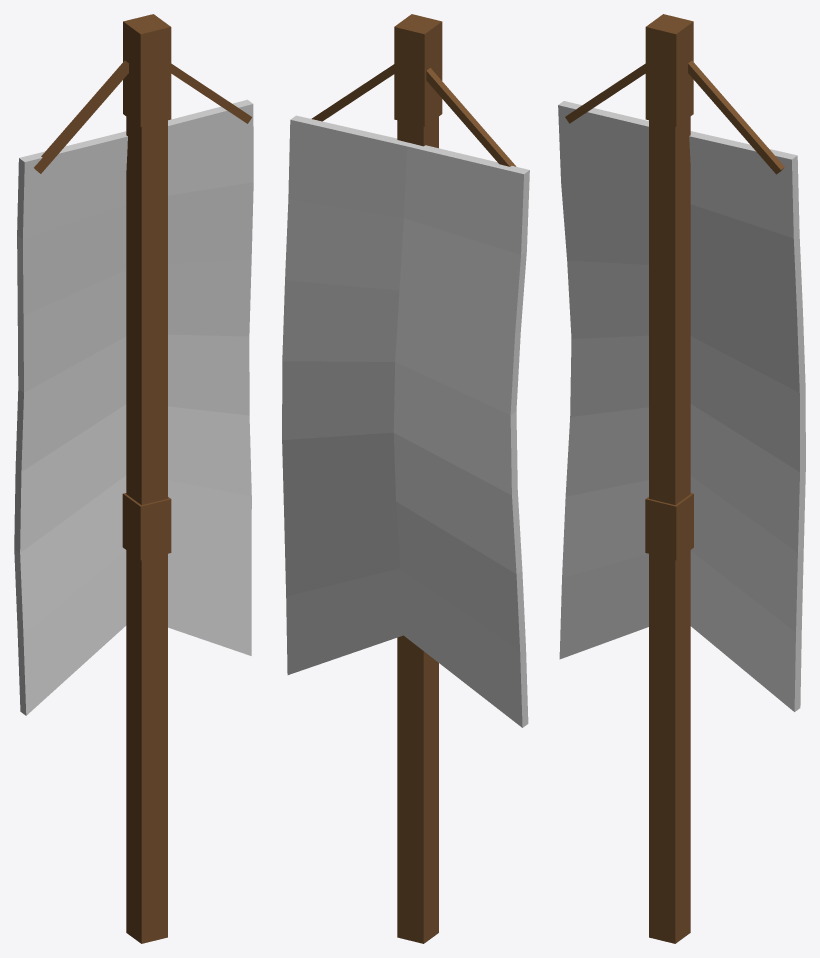
File: banner_1.glb
3 renders of one model, left to right at view 1: azimuth 30°, elevation 25°; view 2: azimuth 150°, elevation 25°; view 3: azimuth 330°, elevation 25°, orthographic.
Visible parts, largest first — view 1: Cube.018; view 2: Cube.018; view 3: Cube.018.
Boxes of the visible parts, x1=… form: Cube.018: x1=14, y1=14, x2=253, y2=943; Cube.018: x1=282, y1=14, x2=529, y2=943; Cube.018: x1=558, y1=14, x2=805, y2=943.
Bounding box in the file's own units: 0.1942 × 0.7241 × 0.0472.
